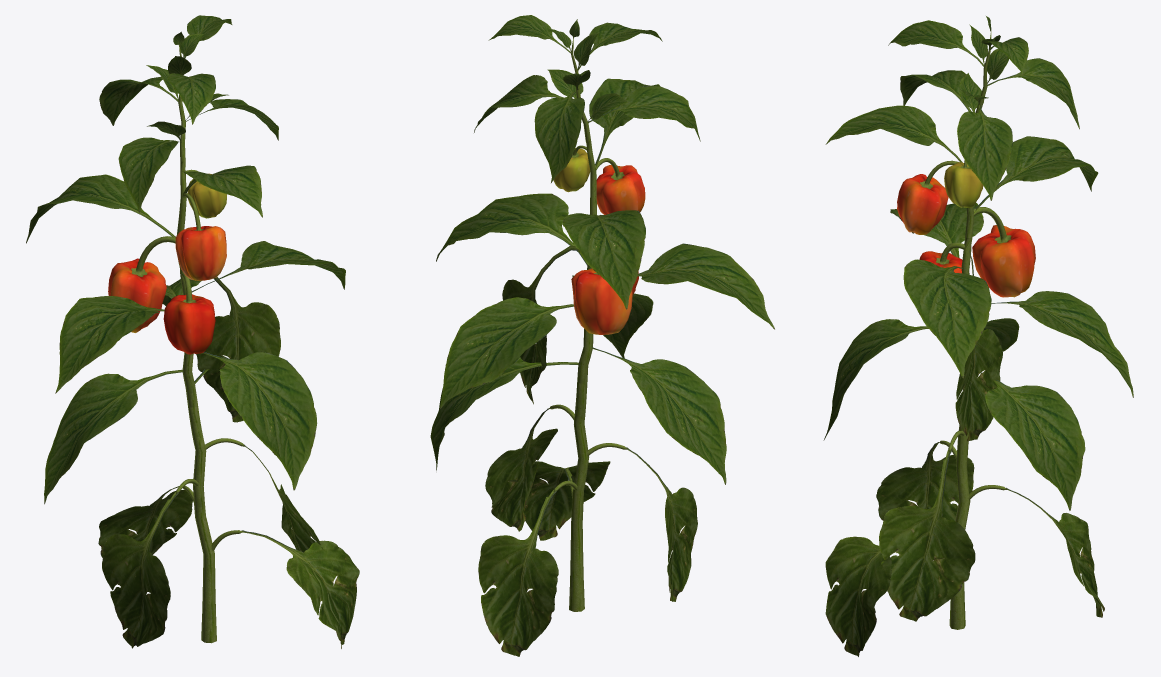
Rendered from Growing1.obj.
3 renders of one model, left to right at view 1: azimuth 30°, elevation 25°; view 2: azimuth 150°, elevation 25°; view 3: azimuth 270°, elevation 25°, orthographic.
Parts seen in each view (by area): view 1: VG07_3; view 2: VG07_3; view 3: VG07_3.
Boxes of the visible parts, x1,y1,x2,y2 form: VG07_3: (26,15,359,648); VG07_3: (430,15,774,656); VG07_3: (823,16,1133,656).
Size of the model in its own units: 0.4726 by 0.8066 by 0.4031.
6 materials, 6 textured.
